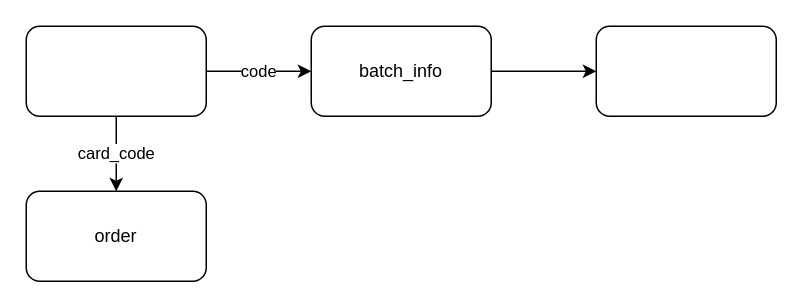
This 803x308 diagram has some shape labels left out. The centre of each missing label's shape, as x and y in pixels:
batch_send_log: point (685, 70)
partner: point (115, 70)
